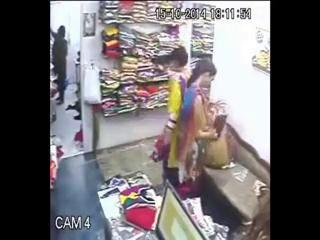shoplifting: (184, 57, 240, 189)
